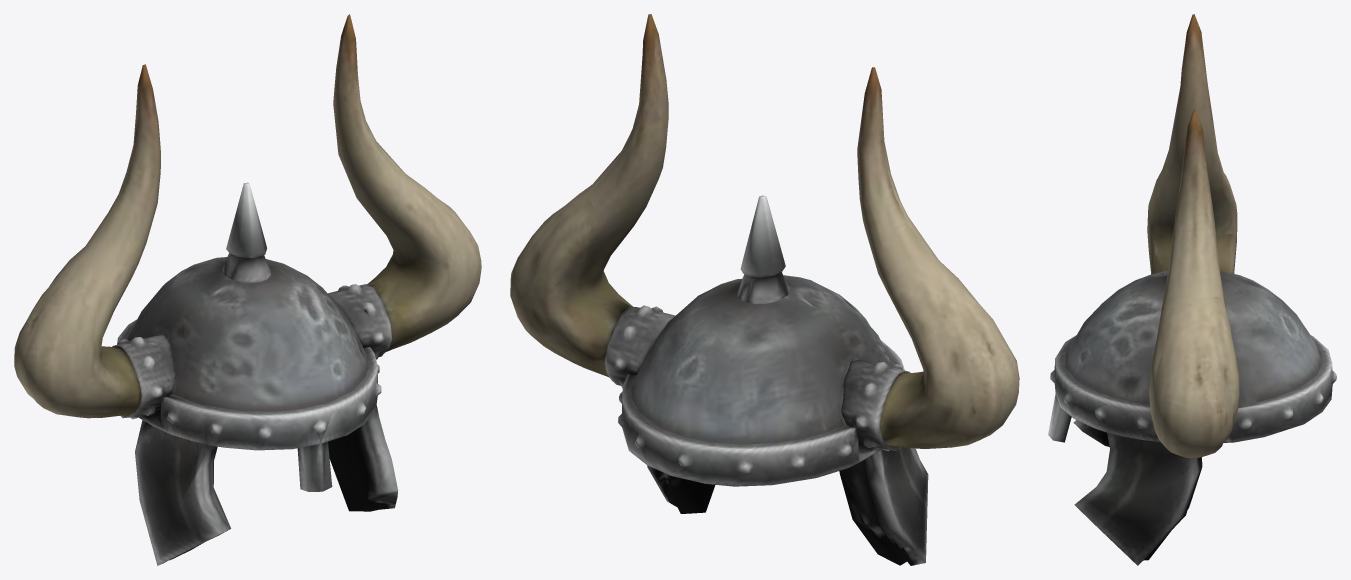
Rendered from Helmet_Viking_1.glb.
3 views of the same model, side by side, from view 1: azimuth 30°, elevation 25°; view 2: azimuth 150°, elevation 25°; view 3: azimuth 270°, elevation 25° (orthographic). The views are drawn at different scales.
Parts seen in each view (by area): view 1: shield_low.003; view 2: shield_low.003; view 3: shield_low.003.
Boxes of the visible parts, x1,y1,x2,y2 form: shield_low.003: (14, 14, 481, 565); shield_low.003: (510, 14, 1019, 565); shield_low.003: (1048, 14, 1336, 565).
Size of the model in its own units: 0.3928 by 0.3944 by 0.2283.
Materials: 1 (1 with a texture image).
